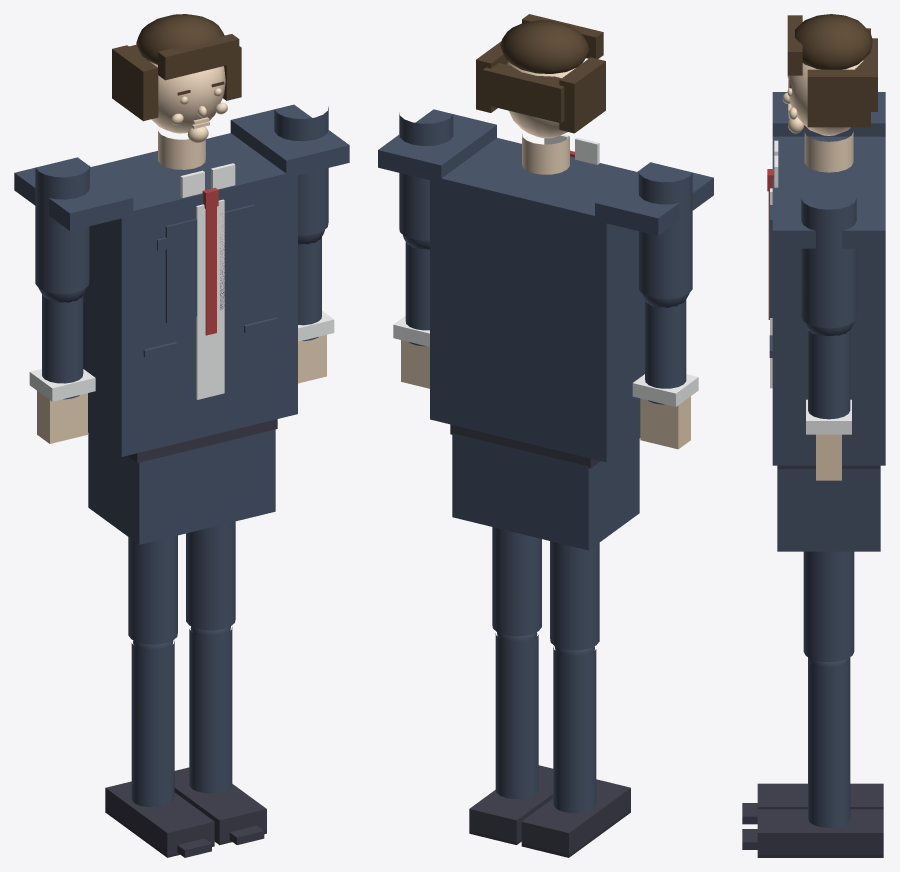
The model's file is businessman.gltf.
The picture shows the model from 3 angles, left to right: view 1: azimuth 30°, elevation 25°; view 2: azimuth 150°, elevation 25°; view 3: azimuth 270°, elevation 25°; orthographic projection.
Parts seen in each view (by area): view 1: jacket_body, trouser_hip, shin_R, shin_L, upper_arm_L, trouser_thigh_L, trouser_thigh_R, jacket_shoulder_R, jacket_shoulder_L, foot_L, shirt_front, lower_arm_L (+17 smaller); view 2: jacket_body, trouser_hip, shin_L, shin_R, upper_arm_L, trouser_thigh_L, trouser_thigh_R, jacket_shoulder_R, jacket_shoulder_L, foot_L, hair_crown, hair_back (+14 smaller); view 3: jacket_body, trouser_hip, shin_R, upper_arm_R, trouser_thigh_R, foot_R, jacket_shoulder_R, hair_side_R, lower_arm_R, hair_crown, foot_L, jacket_shoulder_L (+12 smaller).
Boxes of the visible parts, x1,y1,x2,y2 form: jacket_body: (83, 133, 297, 456); trouser_hip: (88, 429, 275, 544); shin_R: (189, 627, 232, 793); shin_L: (131, 641, 174, 807); upper_arm_L: (35, 165, 89, 293); trouser_thigh_L: (128, 535, 177, 644); trouser_thigh_R: (186, 521, 235, 630); jacket_shoulder_R: (230, 104, 349, 177); jacket_shoulder_L: (14, 157, 133, 230); foot_L: (105, 781, 214, 854); shirt_front: (196, 199, 224, 399); lower_arm_L: (42, 294, 83, 399); jacket_body: (430, 138, 644, 462); trouser_hip: (452, 433, 639, 550); shin_L: (553, 646, 596, 813); shin_R: (495, 633, 538, 799); upper_arm_L: (638, 171, 692, 298); trouser_thigh_L: (550, 541, 599, 650); trouser_thigh_R: (492, 527, 541, 636); jacket_shoulder_R: (378, 109, 496, 182); jacket_shoulder_L: (595, 162, 713, 235); foot_L: (521, 779, 630, 854); hair_crown: (500, 20, 589, 73); hair_back: (482, 63, 564, 123); jacket_body: (772, 136, 885, 465); trouser_hip: (777, 469, 880, 551); shin_R: (808, 659, 850, 827); upper_arm_R: (801, 198, 856, 328); trouser_thigh_R: (803, 551, 854, 662); foot_R: (757, 809, 883, 854); jacket_shoulder_R: (772, 199, 885, 248); hair_side_R: (807, 69, 870, 127); lower_arm_R: (808, 330, 850, 419); hair_crown: (795, 14, 872, 69); foot_L: (757, 783, 883, 809); jacket_shoulder_L: (772, 92, 885, 136).
Size of the model in its own units: 0.714 by 1.9 by 0.304.
